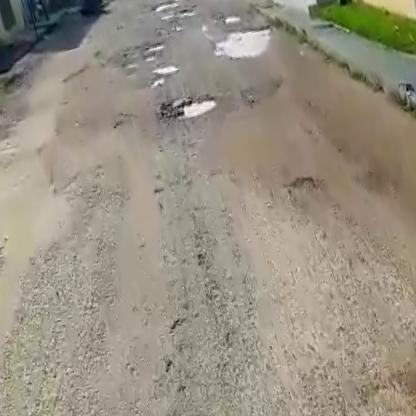pothole: (213, 17, 275, 64), (165, 85, 229, 124), (134, 37, 167, 57), (148, 64, 179, 83)
